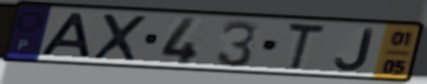3: (217, 18, 257, 69)
4: (158, 16, 202, 67)
A: (37, 11, 93, 60)
J: (333, 27, 376, 73)
T: (284, 20, 328, 73)
X: (90, 12, 150, 64)
